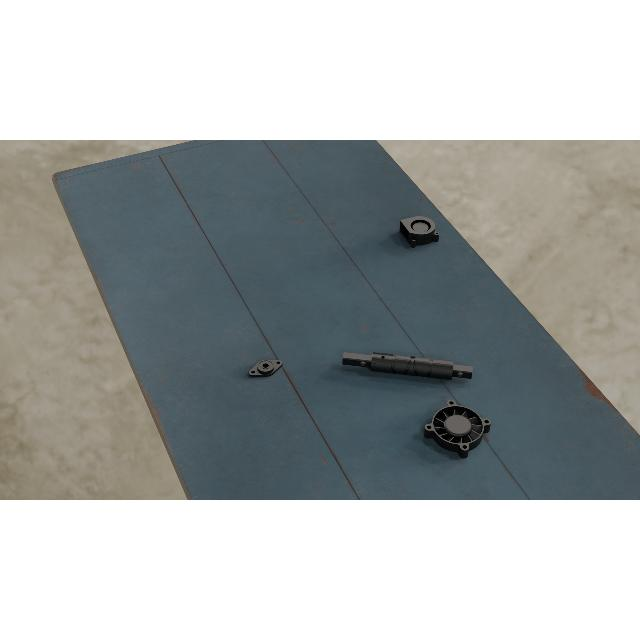Pieza1: (342, 346, 474, 386)
Pieza2: (245, 353, 287, 382)
Pieza3: (399, 213, 441, 249)
Pieza4: (421, 398, 493, 462)
